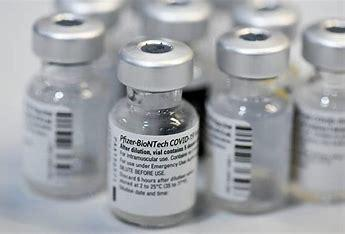Syringe: (102, 32, 202, 225), (205, 18, 294, 218), (17, 11, 102, 199)
